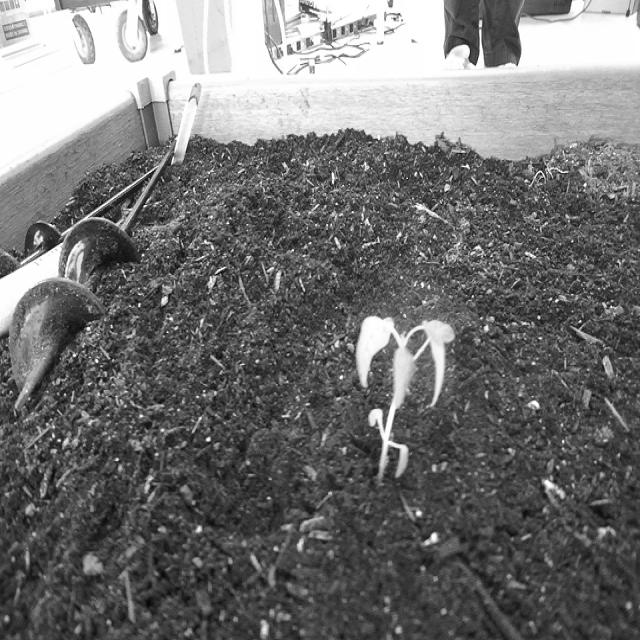Healthy: (352, 303, 458, 490)
